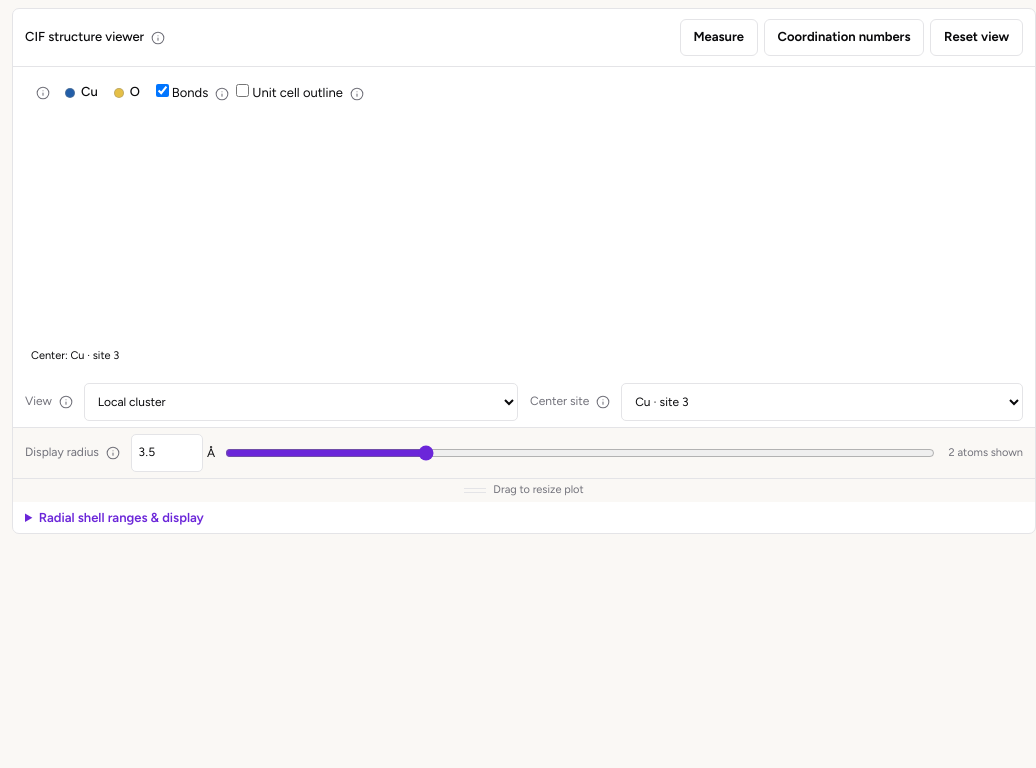
CifViewer › keeps the retry UI usable if a scene redraw fails during measurement
The width and height of the screenshot is (1036, 768).
Check: the button "Reset view" is enabled, box [930,19,1023,56]
Click the button "Measure". click: (719, 38)
box: [680,19,758,56]
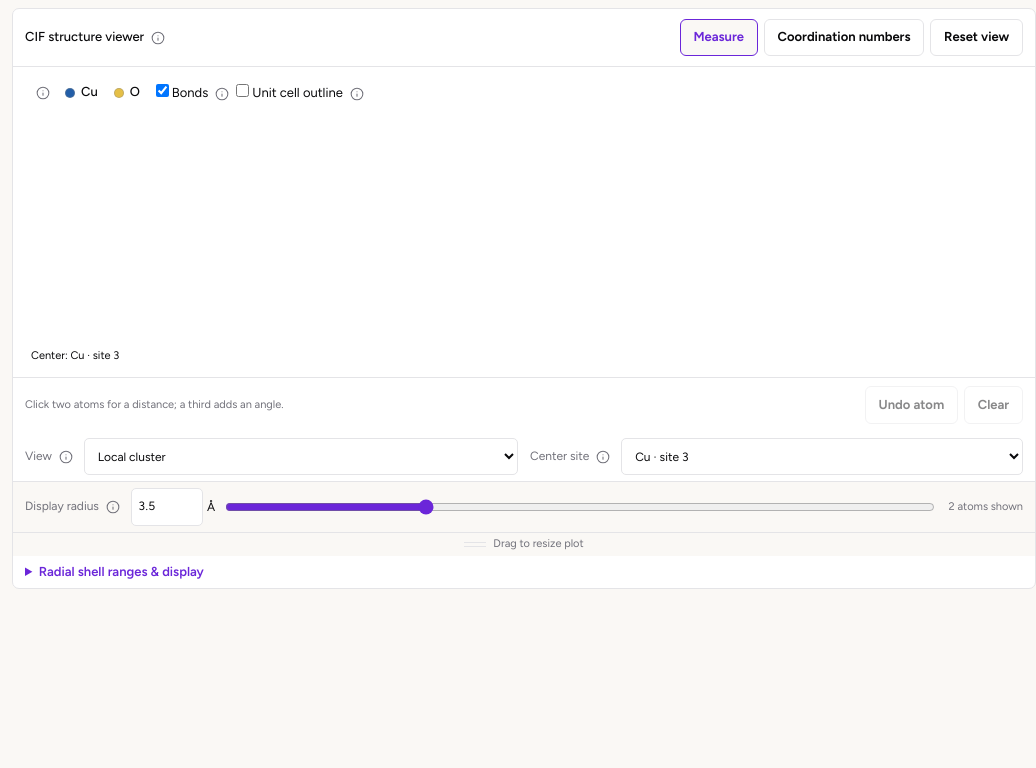
Click the checkbox labelled "Bonds". click: (162, 91)
box: [156,84,169,98]
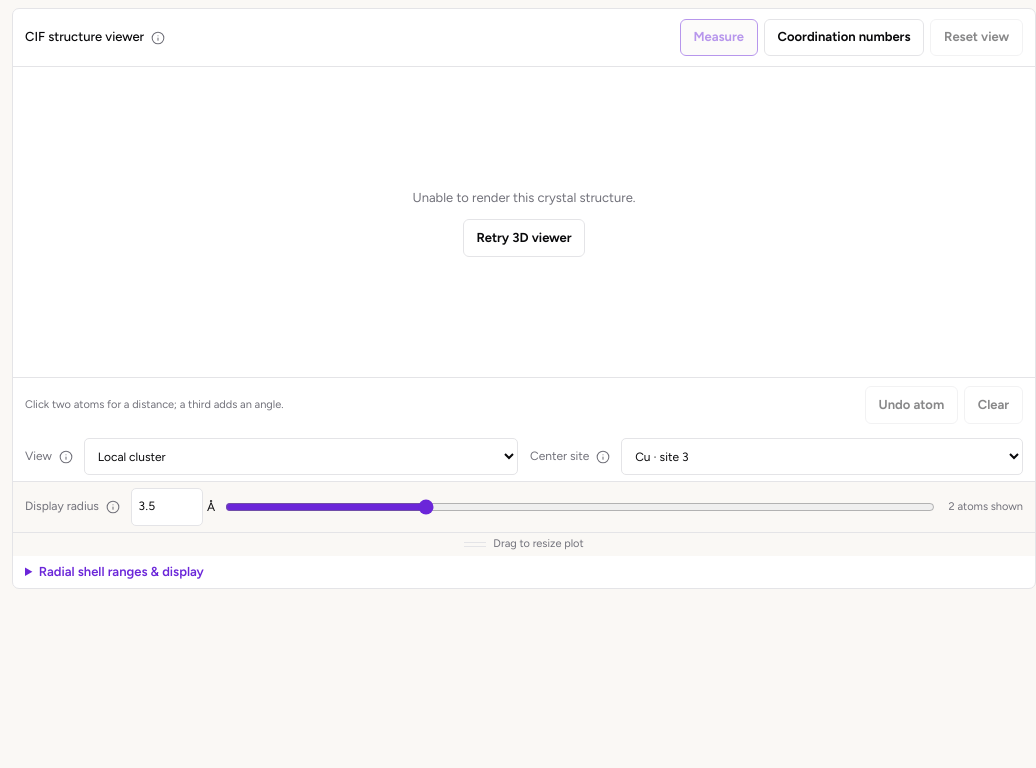
Check: the message shows "Unable to render this crystal structure.", box [412,190,635,205]
Click the button "Retry 3D viewer". click: (524, 238)
box: [463,220,585,257]
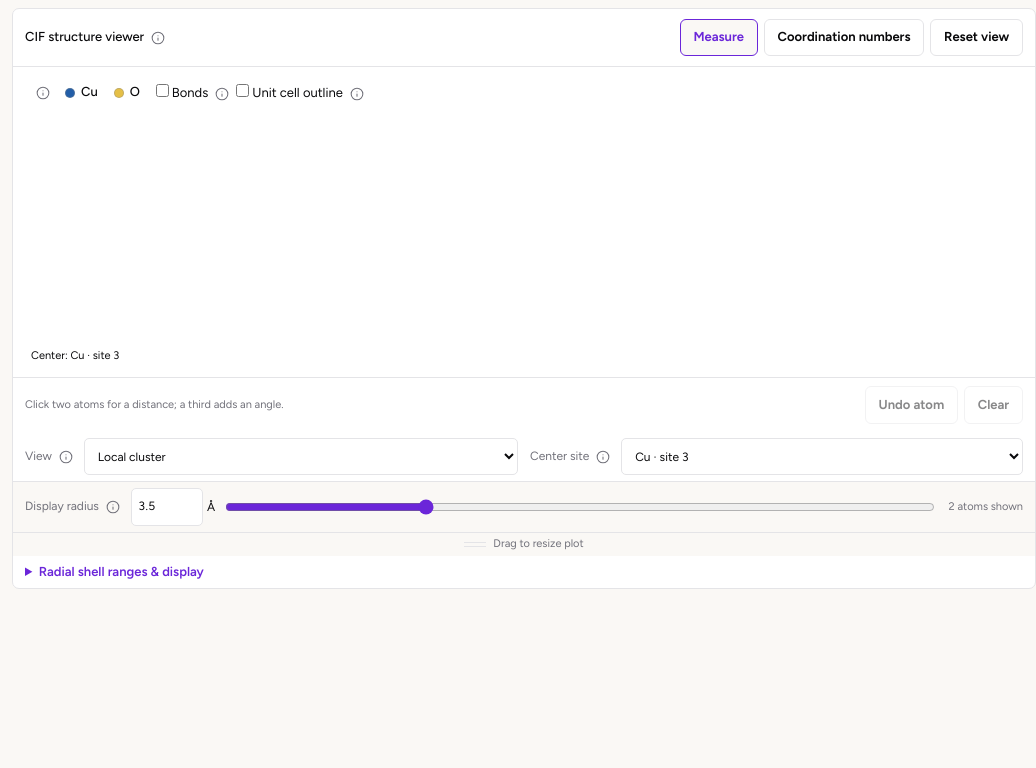
Check: the message "Unable to render this crystal structure. Retry 3D viewer" is gone
